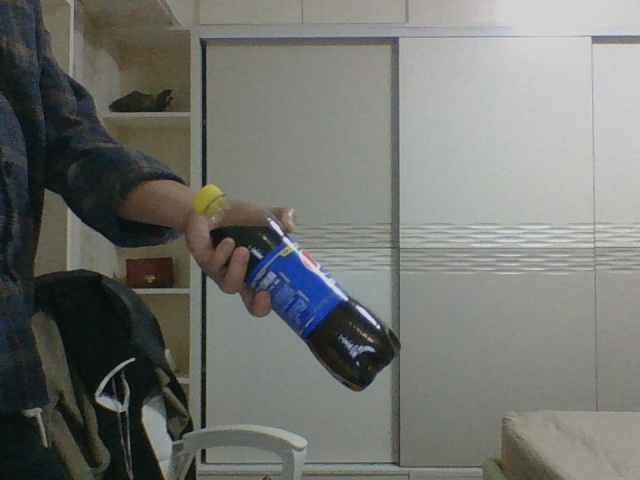Cola: (192, 184, 401, 390)
